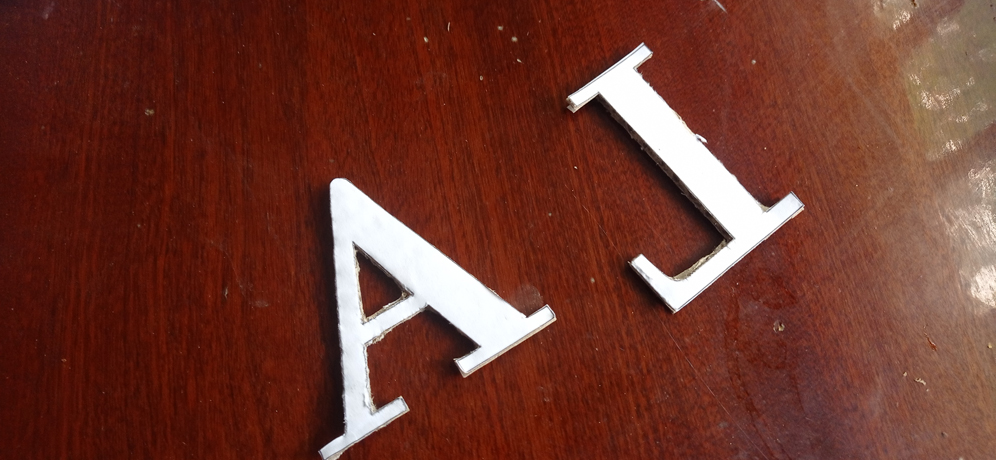a: (317, 174, 556, 460)
g: (564, 43, 806, 313)
